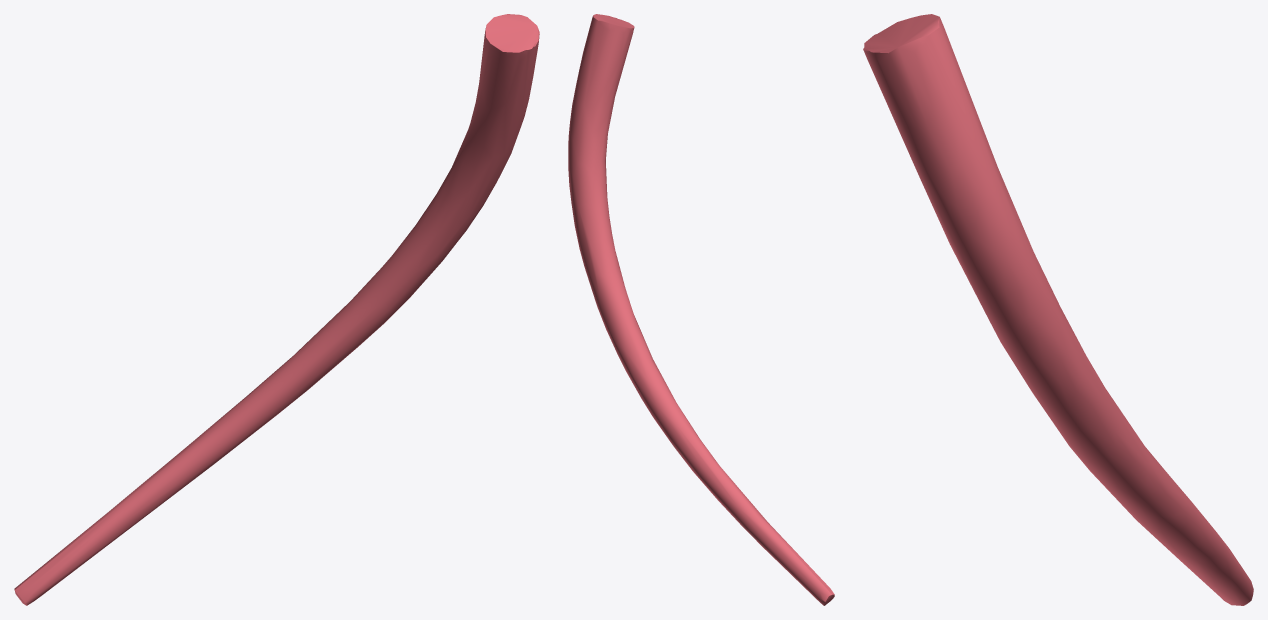
File: fma8647_fj2903.glb
3 views of the same model, side by side, from view 1: azimuth 30°, elevation 25°; view 2: azimuth 150°, elevation 25°; view 3: azimuth 270°, elevation 25° (orthographic). The views are drawn at different scales.
Visible parts, largest first — view 1: FMA8647_FJ2903; view 2: FMA8647_FJ2903; view 3: FMA8647_FJ2903.
Boxes of the visible parts, box(x1,y1,x2,y2) form: FMA8647_FJ2903: box(14, 14, 539, 605); FMA8647_FJ2903: box(568, 14, 834, 605); FMA8647_FJ2903: box(863, 14, 1253, 605).
Bounding box in the file's own units: 0.0432 × 0.0566 × 0.0232.
